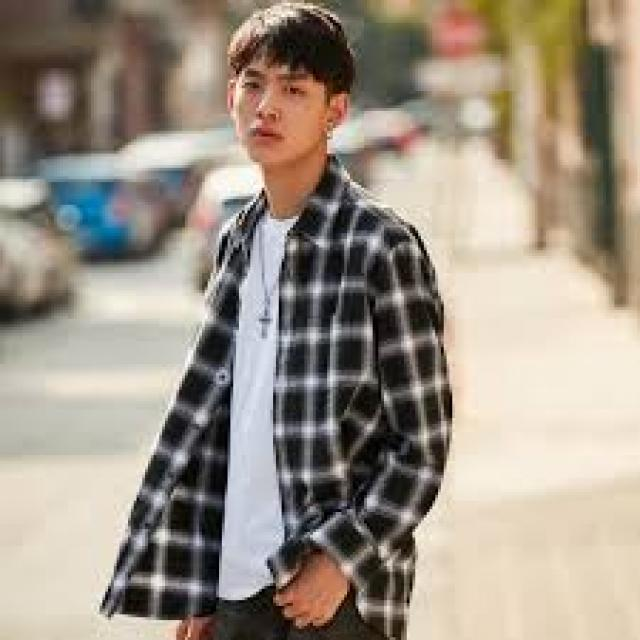plaid: (101, 187, 453, 623)
